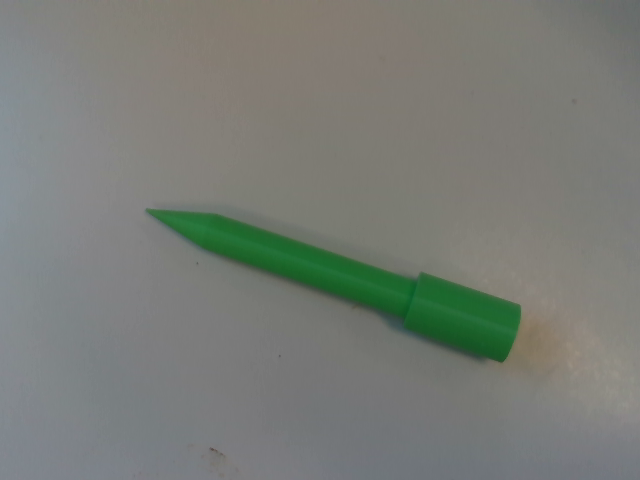Probe: (139, 198, 530, 369)
